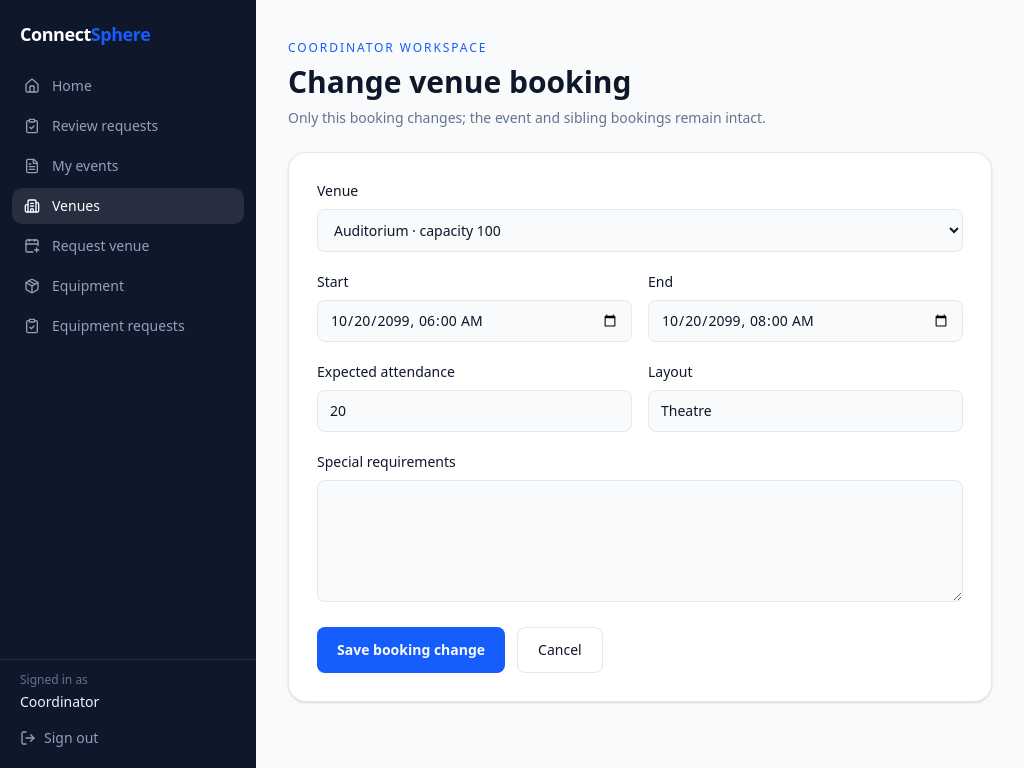
Test case: refuses invalid End=2000-01-01T00:00 before writing
This screenshot has width=1024, height=768.
Expected: the dropdown labelled "Venue" is shown, [317,209,963,252]
Replace the text in the field labelled "End" with "2000-01-01T00:00". click: x=806, y=321
box: [648,300,963,342]
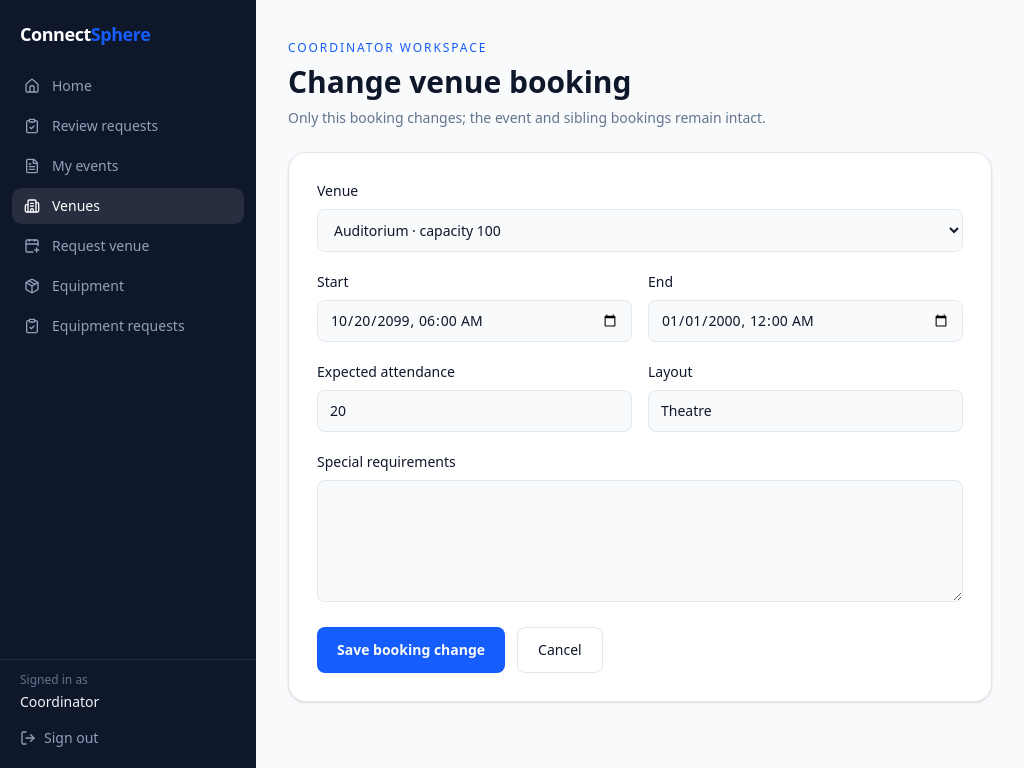
Submit the form, box [288,152,992,702]
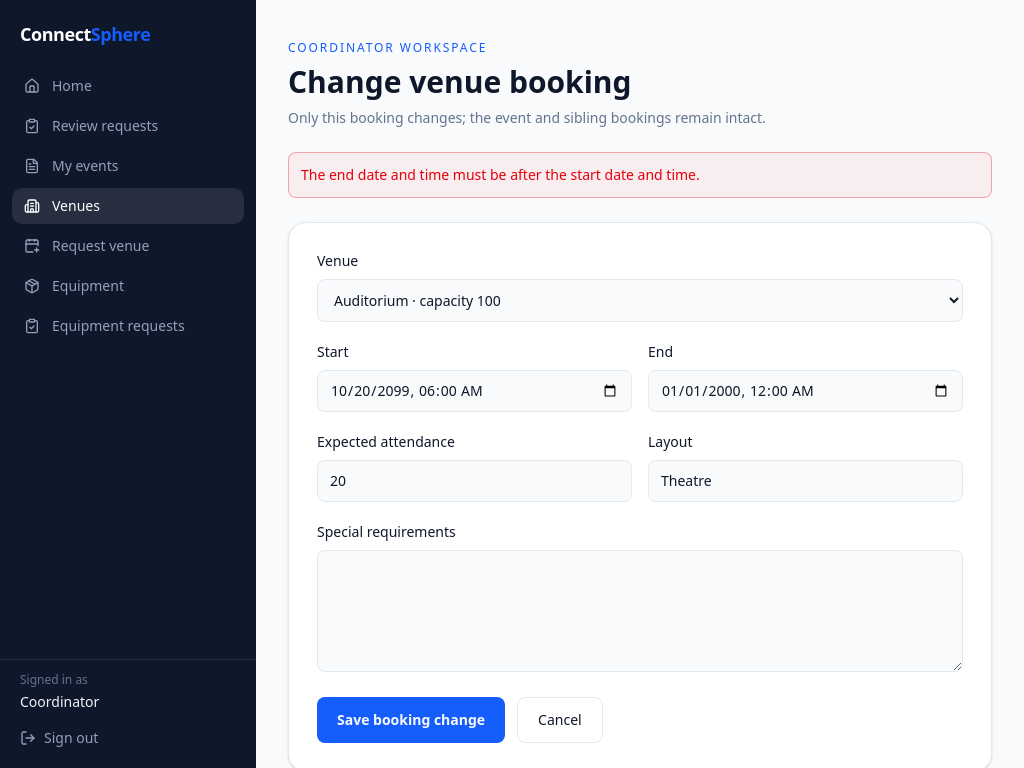
Result: the message shows "after the start" at [301,165,700,184]
